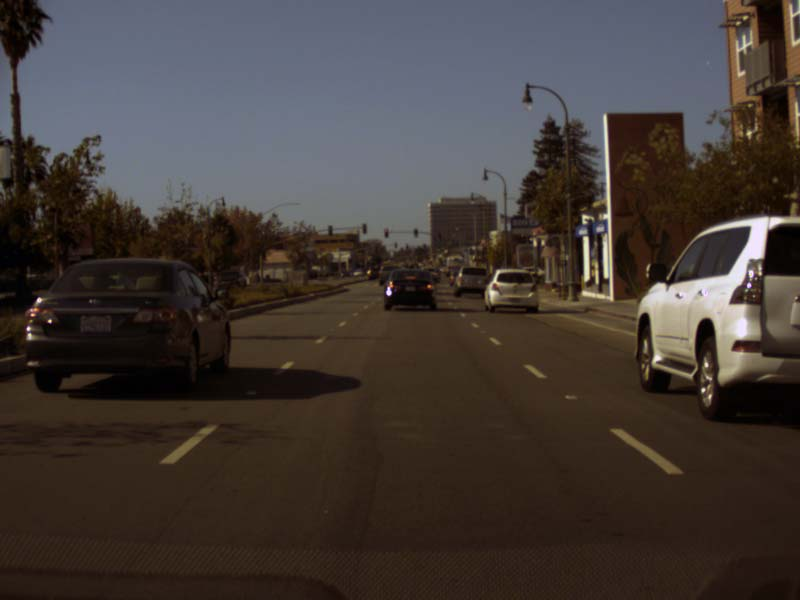Green: (413, 228, 417, 237), (438, 233, 441, 240)
Red: (383, 228, 387, 237)
